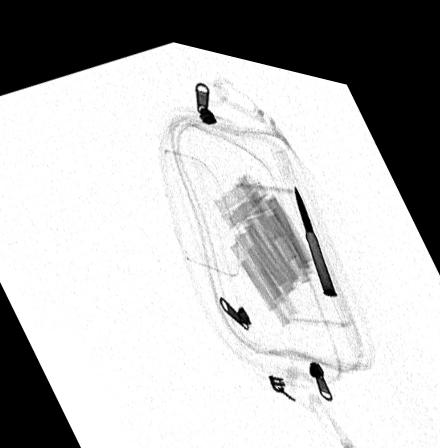Bullet: (291, 165, 338, 280)
